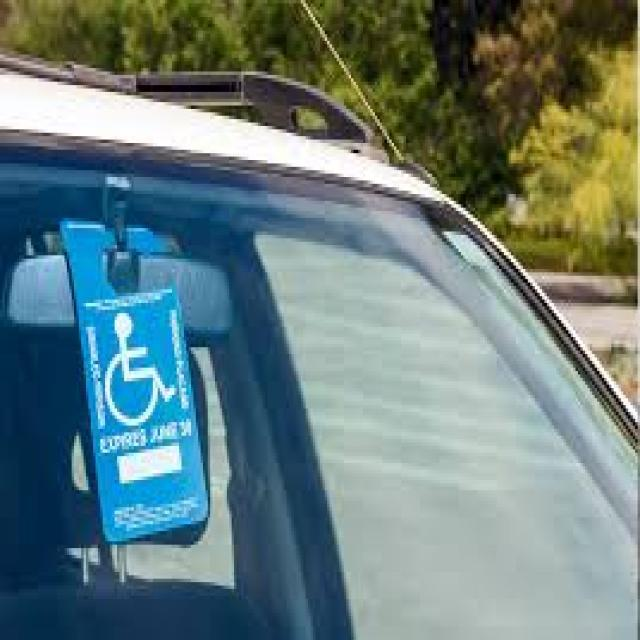symbol_of_access: (100, 312, 176, 428)
